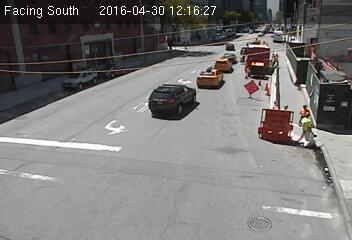neg: (304, 34, 324, 61), (241, 75, 258, 97), (25, 68, 41, 88), (96, 49, 110, 68), (216, 36, 226, 49)
pos: (297, 110, 321, 142), (297, 104, 314, 127)
